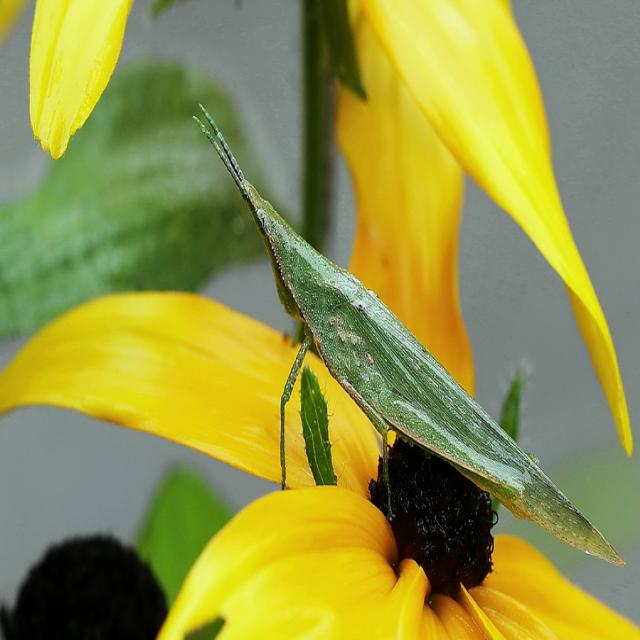ZhaMeng: (182, 97, 632, 577)
